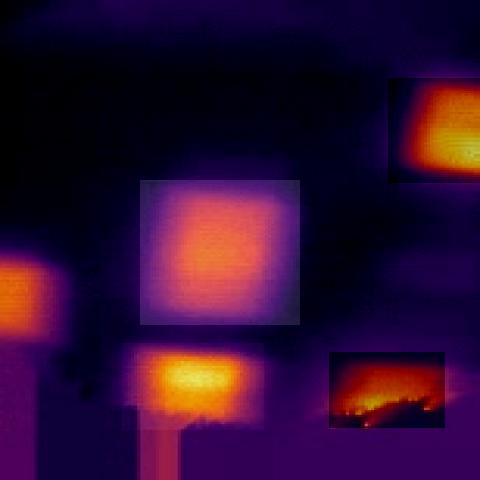fault: (140, 180, 300, 325), (123, 343, 264, 430), (388, 78, 480, 183), (329, 352, 445, 428), (0, 250, 63, 349)
